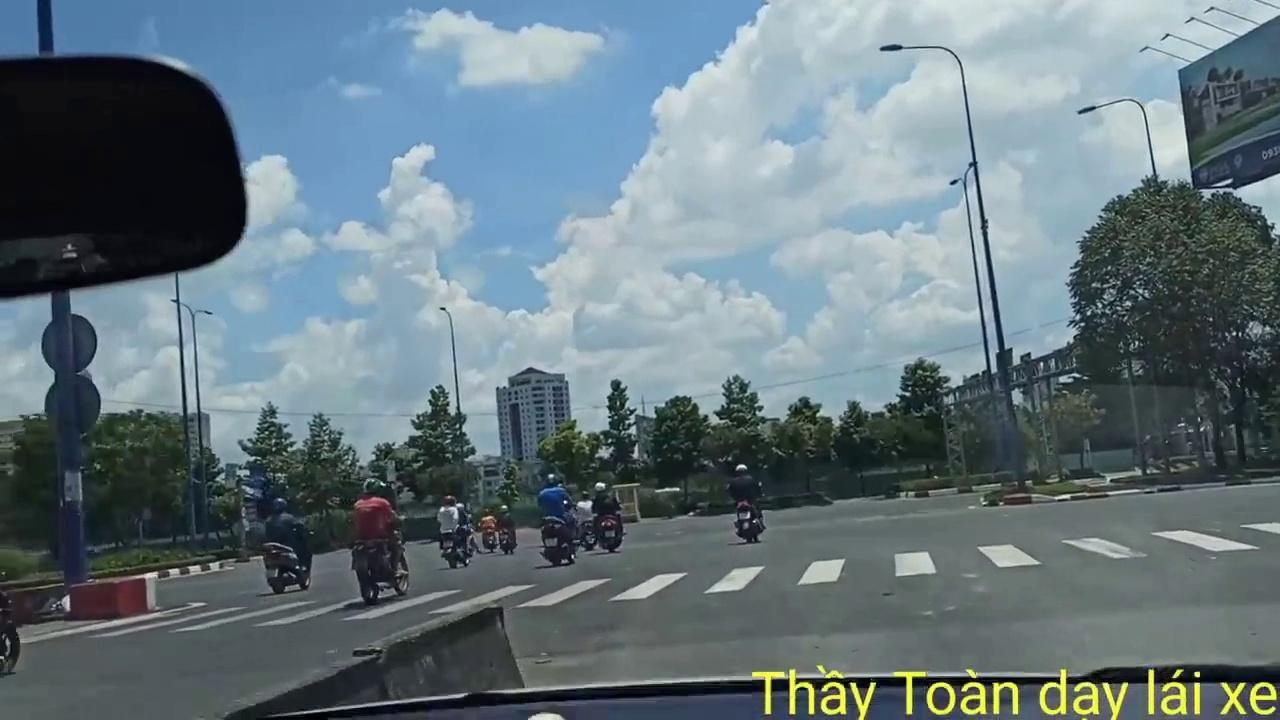Cấm cac phương tiện hoạt động trong khung giờ cố định: (225, 464, 239, 489)
